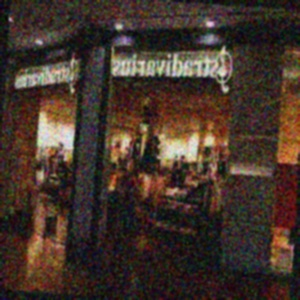stradivarius: (185, 15, 294, 46), (74, 23, 86, 69)
